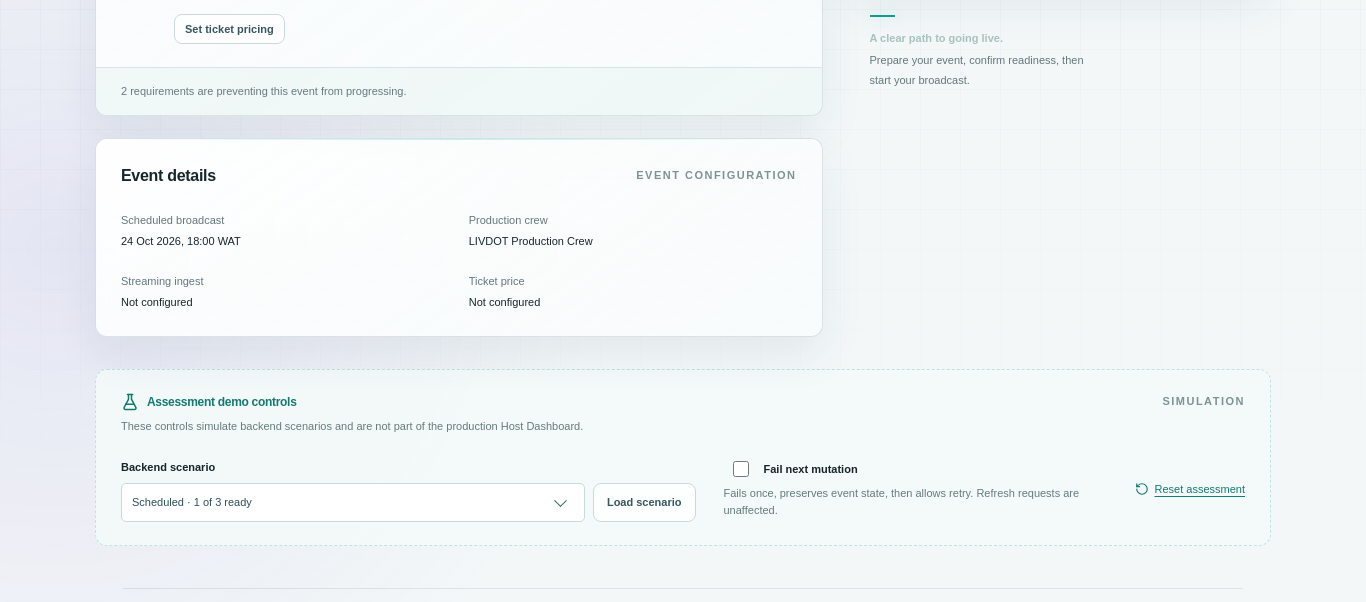
Test case: host event dashboard › loads scenarios, schedules a draft, and resets assessment
(page scrolled)
Select "Draft · no schedule" in the dropdown labelled "Backend scenario" at (353, 502), box [121, 483, 585, 522]
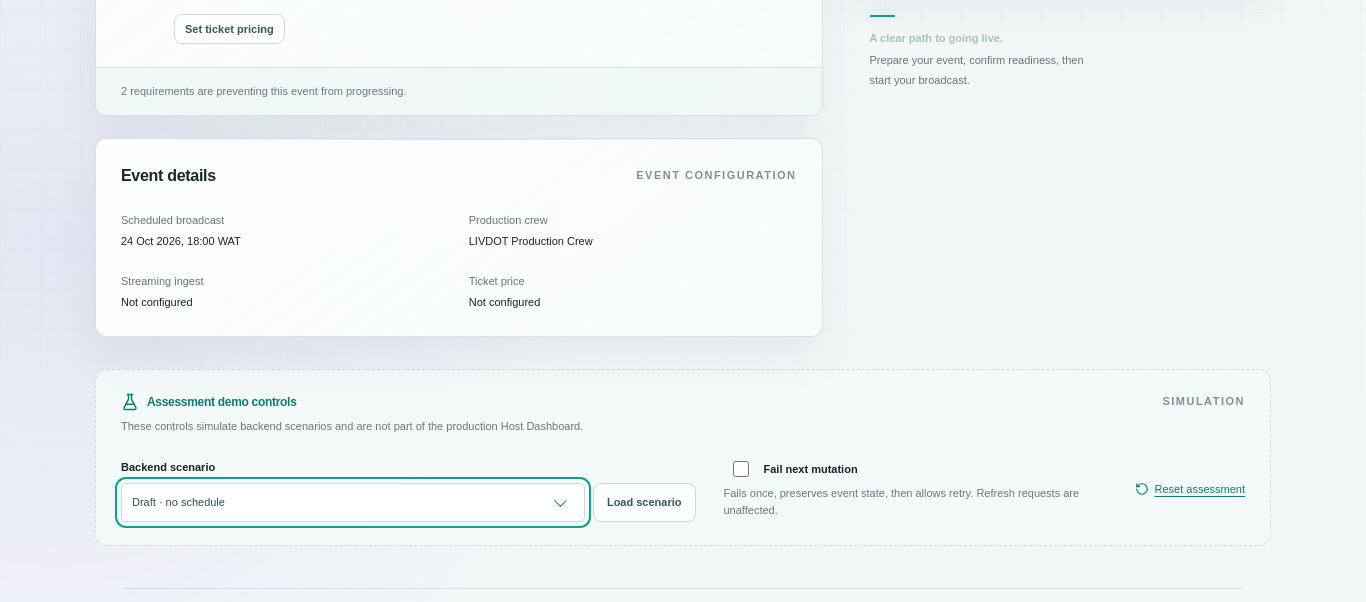
Click the button "Load scenario" at (644, 502), box [593, 483, 696, 522]
(page scrolled)
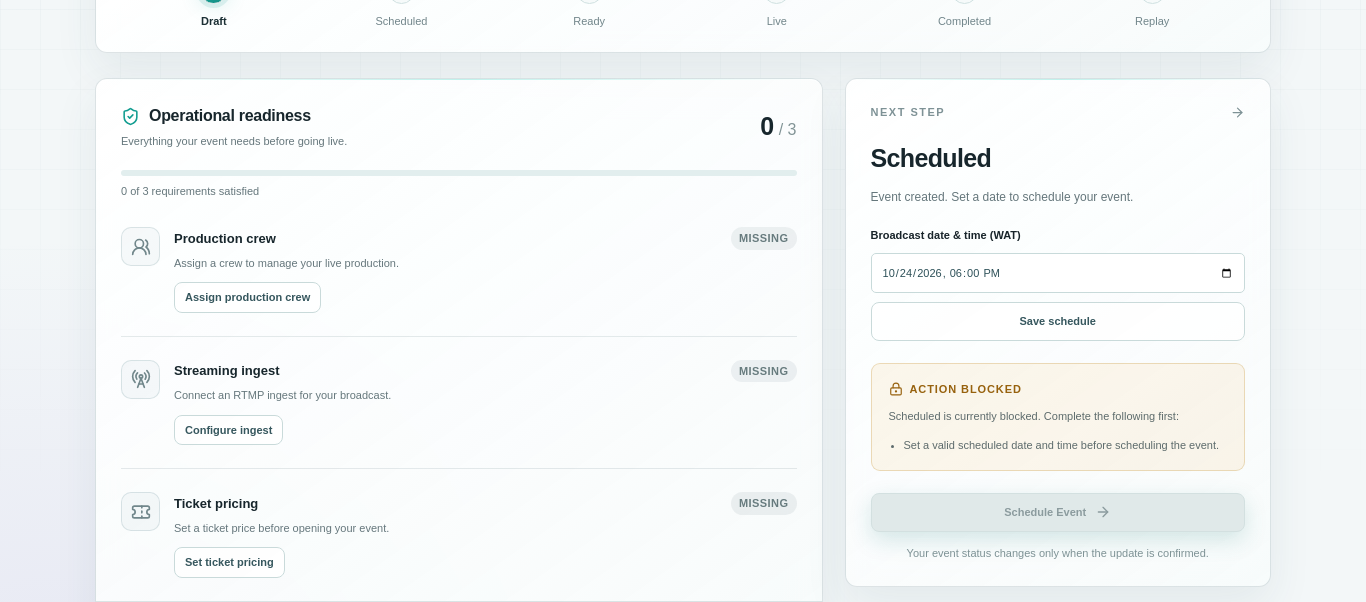
Expected: the button "Schedule Event" is disabled, [870, 493, 1245, 532]
Replace the text in the field labelled "Broadcast date & time (WAT)" with "2026-11-05T19:30" at (1058, 273), box [870, 253, 1245, 294]
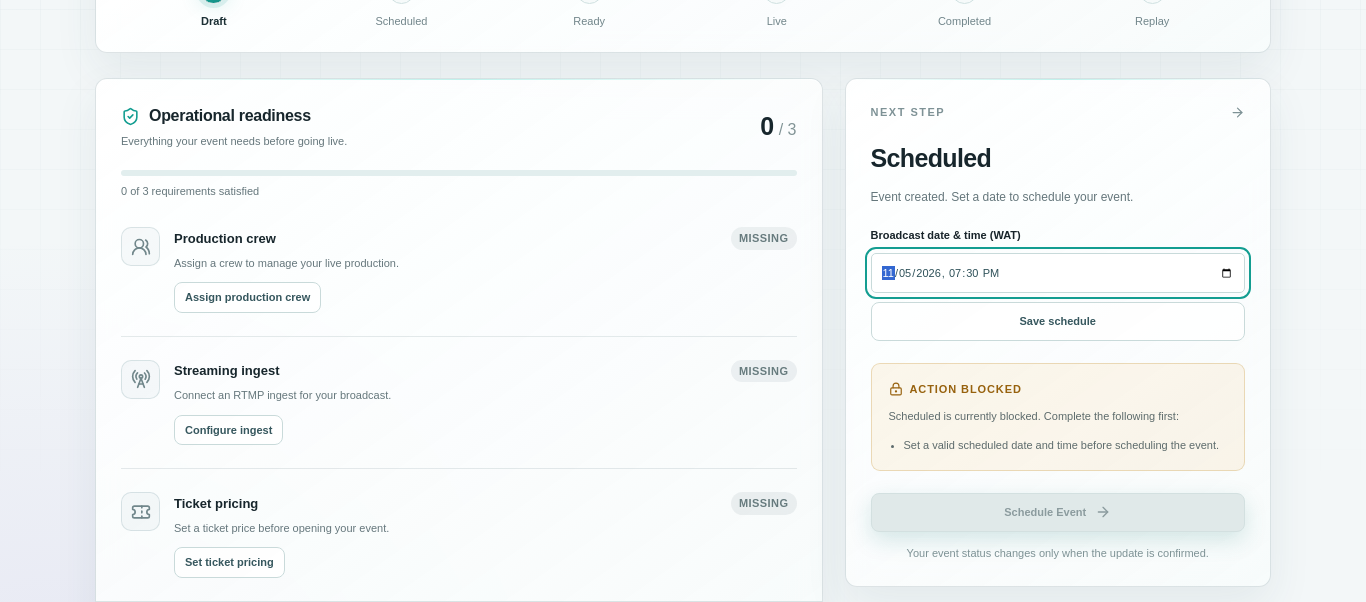
Click the button "Save schedule" at (1058, 322), box [870, 302, 1245, 341]
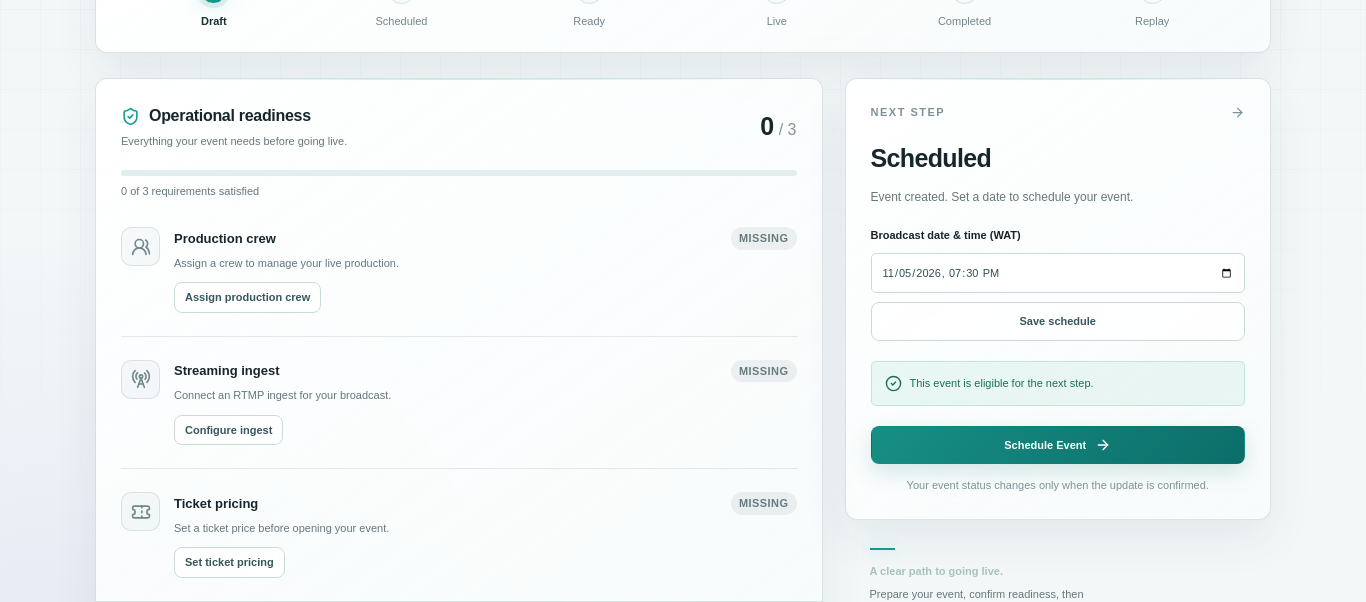
Expected: the button "Schedule Event" is enabled
Click the button "Schedule Event" at (1058, 445), box [870, 426, 1245, 464]
(page scrolled)
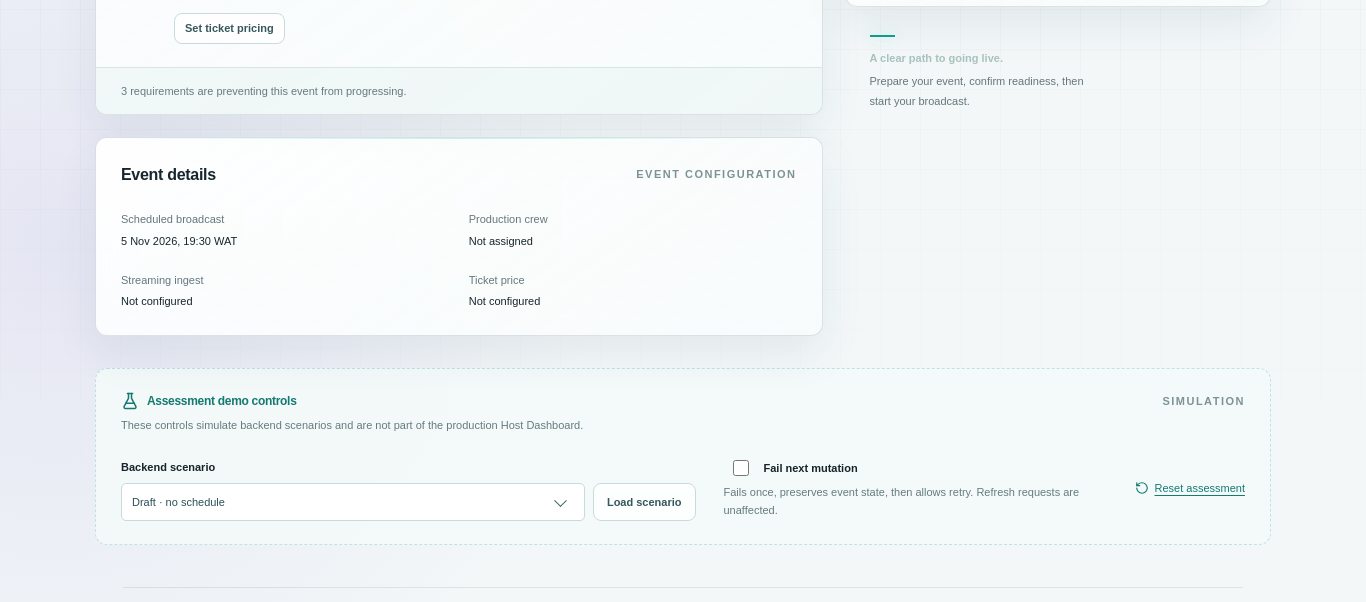
Click the button "Reset assessment" at (1190, 488), box [1134, 475, 1245, 502]
(page scrolled)
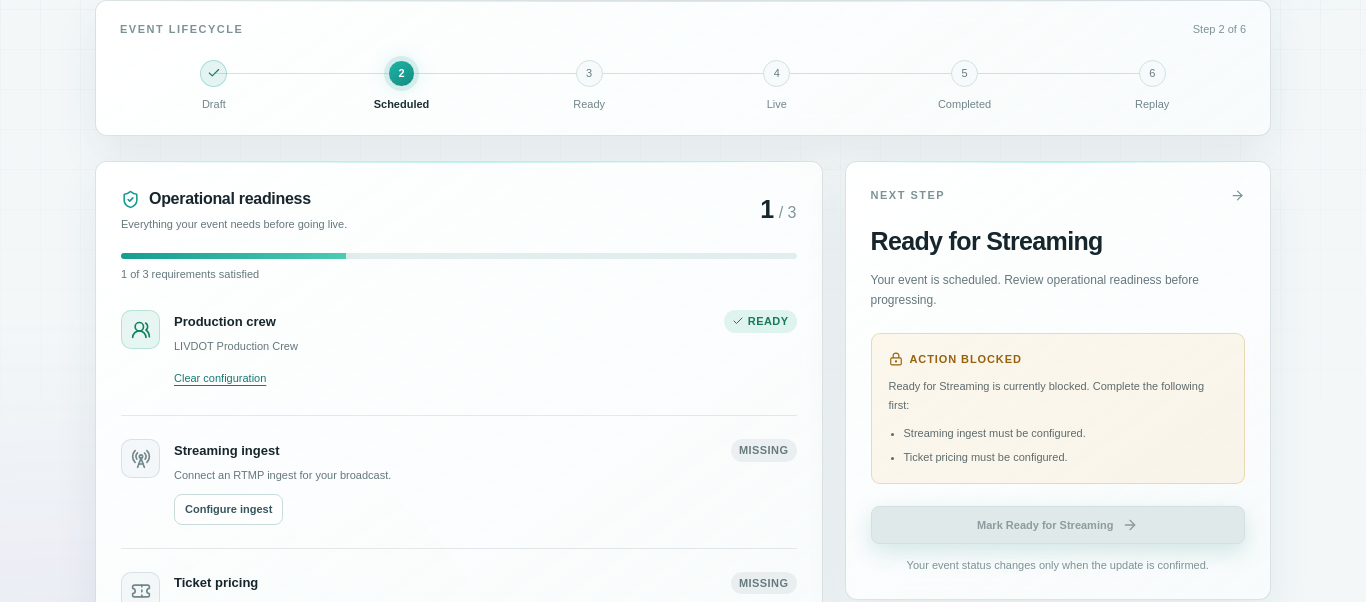
Expected: the text "1 of 3 requirements satisfied" is shown, [121, 268, 259, 280]
